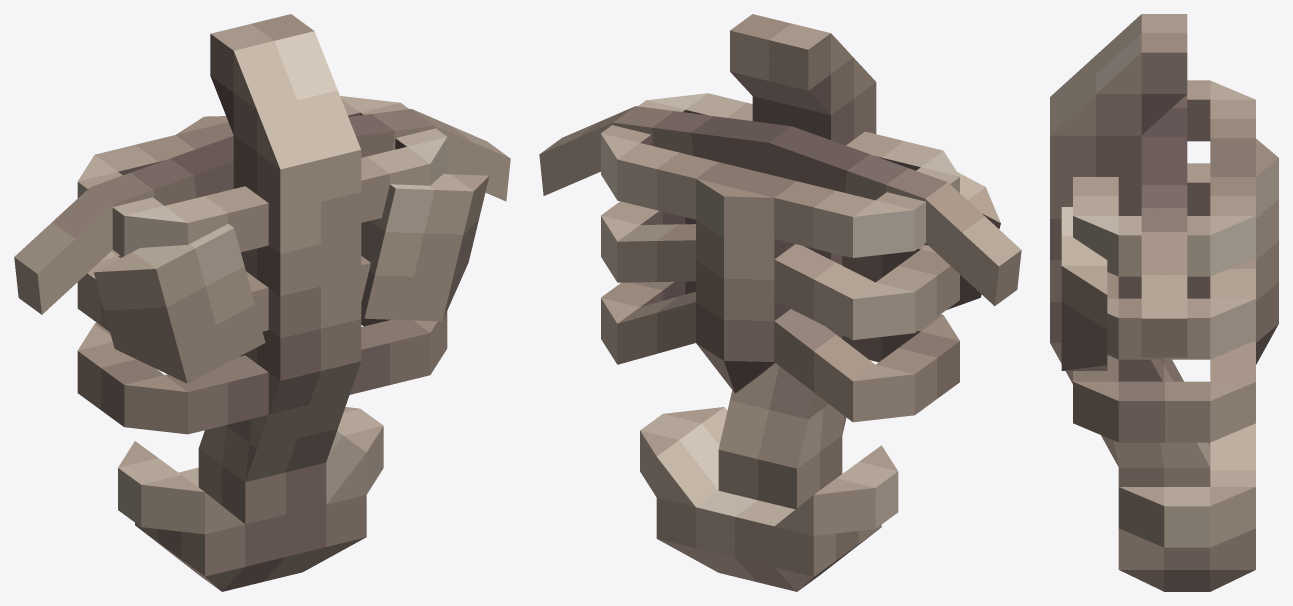
Rendered from torso_basic.obj.
The picture shows the model from 3 angles, left to right: view 1: azimuth 30°, elevation 25°; view 2: azimuth 150°, elevation 25°; view 3: azimuth 270°, elevation 25°; orthographic projection. The views are drawn at different scales.
Parts seen in each view (by area): view 1: TORSO_BONE_BASIC_Cube.398; view 2: TORSO_BONE_BASIC_Cube.398; view 3: TORSO_BONE_BASIC_Cube.398.
Boxes of the visible parts, x1,y1,x2,y2 form: TORSO_BONE_BASIC_Cube.398: [14, 14, 510, 591]; TORSO_BONE_BASIC_Cube.398: [539, 14, 1021, 591]; TORSO_BONE_BASIC_Cube.398: [1050, 14, 1278, 591].
Bounding box in the file's own units: 0.7319 × 0.8125 × 0.3125.
